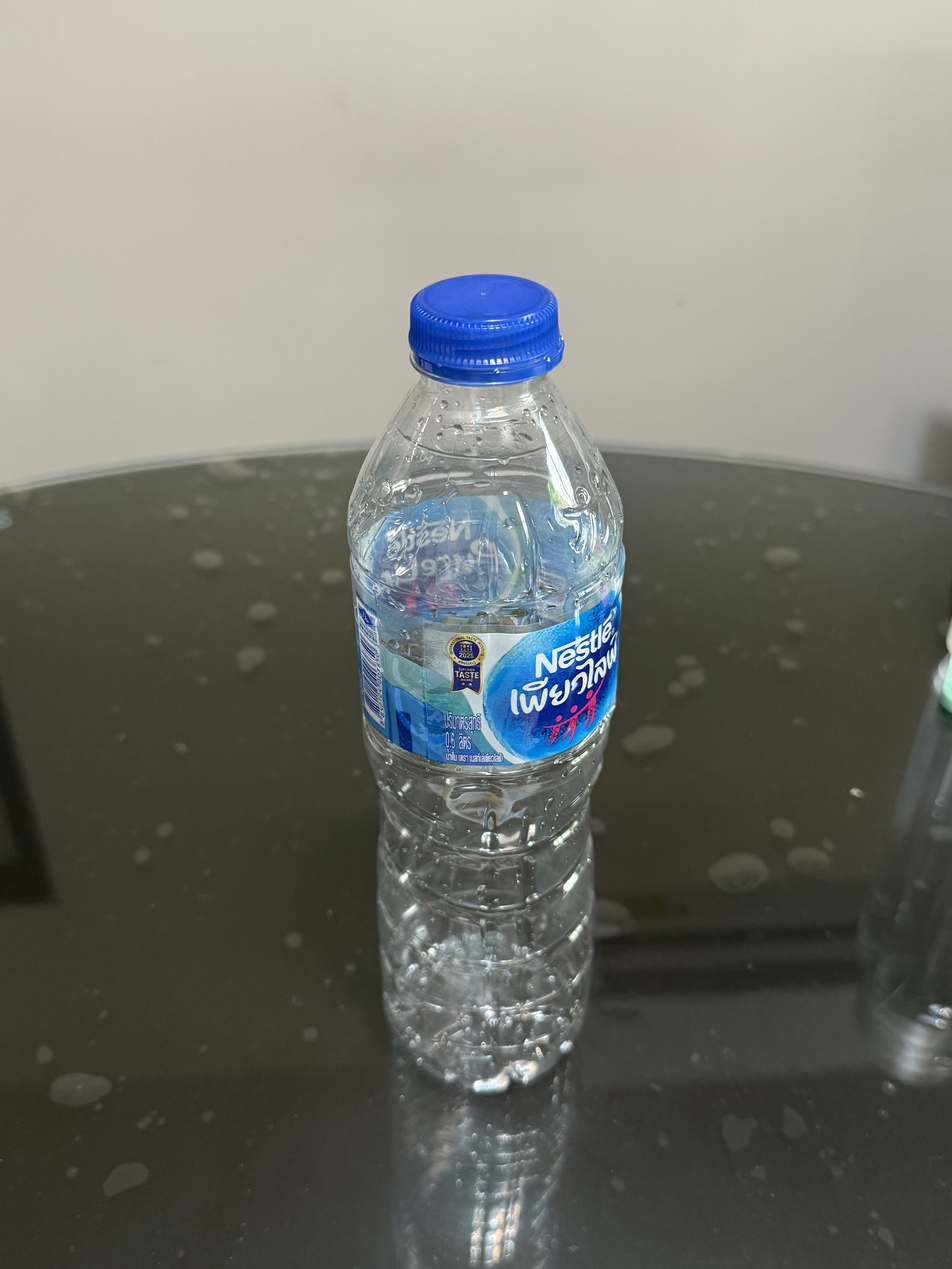closed_cap: (405, 270, 566, 383)
